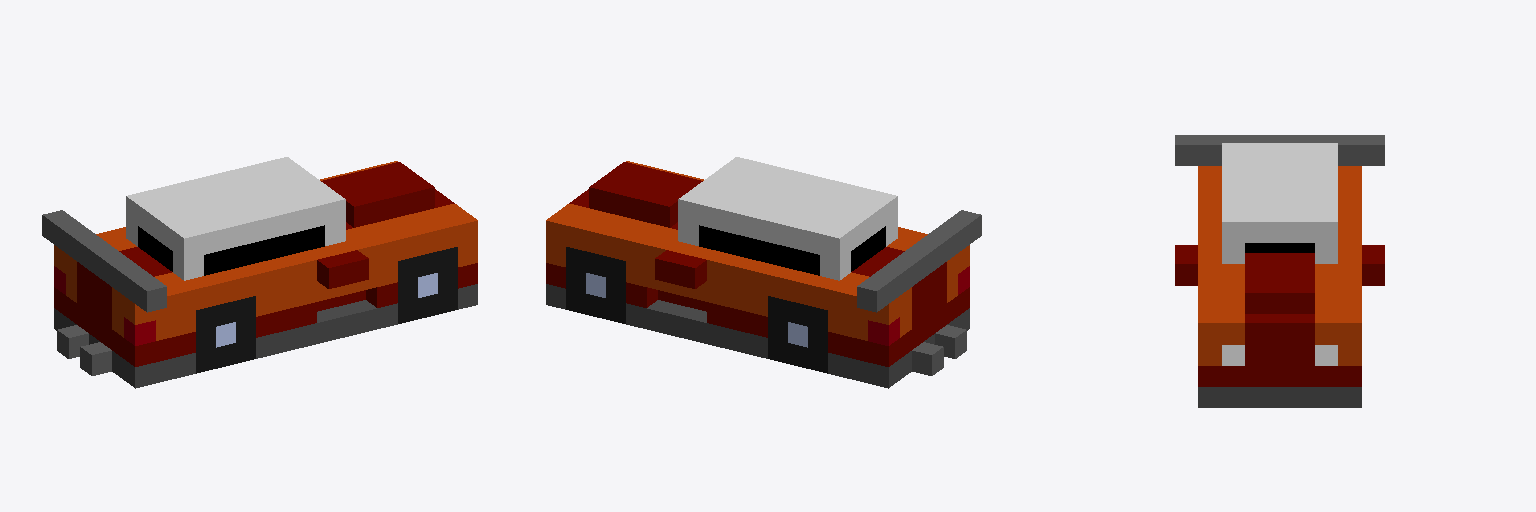
3 views of the same model, side by side, from view 1: azimuth 30°, elevation 25°; view 2: azimuth 150°, elevation 25°; view 3: azimuth 270°, elevation 25° (orthographic).
Parts seen in each view (by area): view 1: RedSportCar; view 2: RedSportCar; view 3: RedSportCar.
Part boxes in pixels (left/top/right/bottom): RedSportCar: left=42, top=157, right=477, bottom=388; RedSportCar: left=546, top=157, right=981, bottom=388; RedSportCar: left=1175, top=135, right=1384, bottom=407.
Bounding box in the file's own units: 18 × 6 × 9.
Materials: 1 (1 with a texture image).